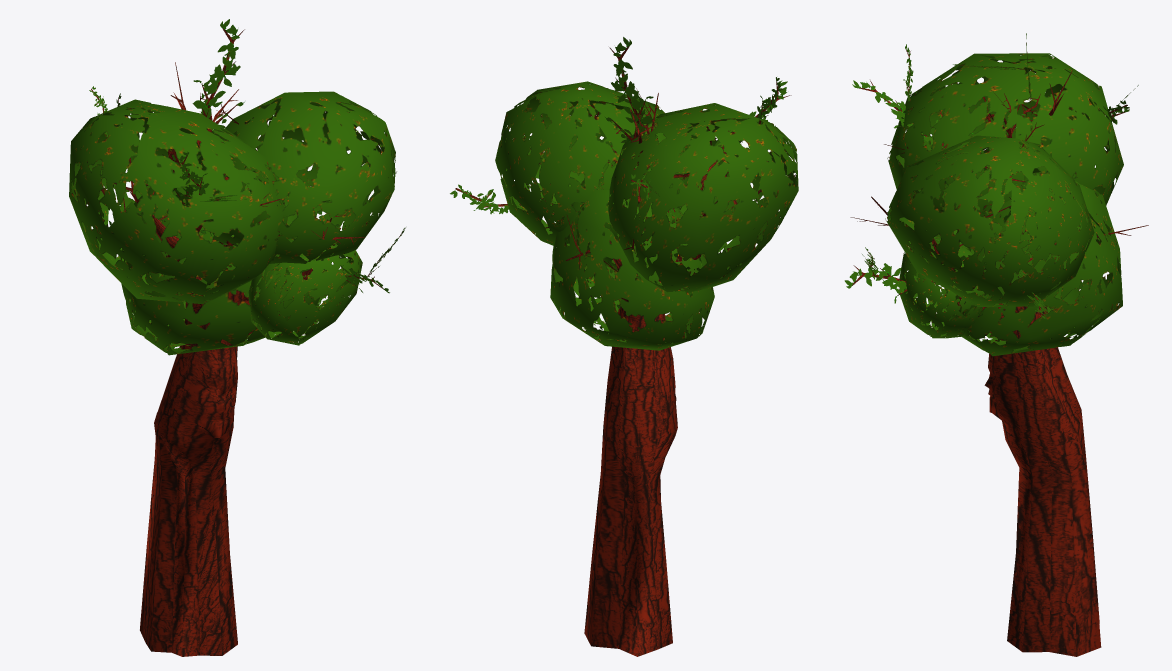
File: Tree 1.glb
3 renders of one model, left to right at view 1: azimuth 30°, elevation 25°; view 2: azimuth 150°, elevation 25°; view 3: azimuth 270°, elevation 25°, orthographic. The views are drawn at different scales.
Parts seen in each view (by area): view 1: Tree_Leaves_1, Tree_1, Tree_Twigs_1; view 2: Tree_Leaves_1, Tree_1, Tree_Twigs_1; view 3: Tree_Leaves_1, Tree_1, Tree_Twigs_1.
Part boxes in pixels (bbox=[...]): Tree_Leaves_1: bbox=[69, 19, 405, 355]; Tree_1: bbox=[101, 92, 331, 656]; Tree_Twigs_1: bbox=[101, 62, 364, 244]; Tree_Leaves_1: bbox=[450, 37, 798, 350]; Tree_1: bbox=[584, 132, 723, 656]; Tree_Twigs_1: bbox=[545, 88, 761, 271]; Tree_Leaves_1: bbox=[844, 33, 1138, 356]; Tree_1: bbox=[932, 94, 1101, 656]; Tree_Twigs_1: bbox=[850, 70, 1148, 304].
Bounding box in the file's own units: 6.23 × 10.18 × 4.7.
2 materials, 2 textured.
